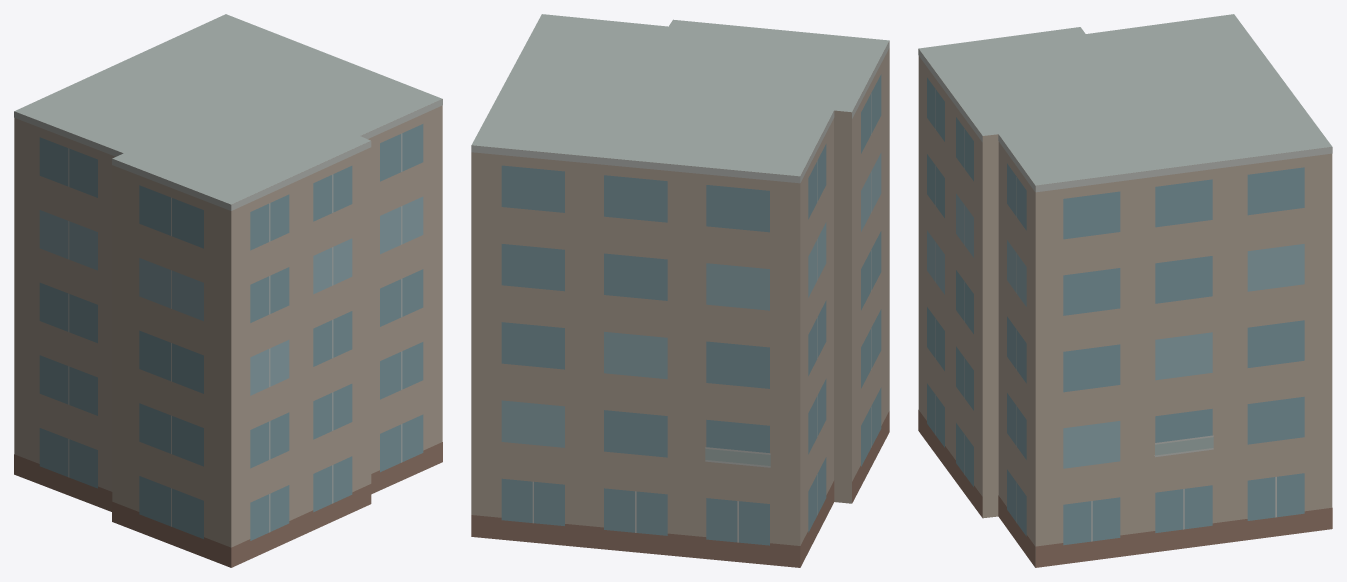
The model's file is survey-upis-32892676.glb.
The picture shows the model from 3 angles, left to right: view 1: azimuth 30°, elevation 25°; view 2: azimuth 150°, elevation 25°; view 3: azimuth 270°, elevation 25°; orthographic projection. The views are drawn at different scales.
Visible parts, largest first — view 1: survey-upis-32892676.tmp; view 2: survey-upis-32892676.tmp; view 3: survey-upis-32892676.tmp.
Boxes of the visible parts, bbox=[...] form: survey-upis-32892676.tmp: bbox=[14, 14, 442, 567]; survey-upis-32892676.tmp: bbox=[471, 14, 889, 567]; survey-upis-32892676.tmp: bbox=[918, 14, 1332, 567].
Size of the model in its own units: 13.2 by 13.7 by 13.46.
